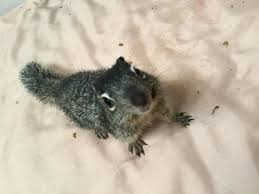Ardilla: (58, 64, 194, 141)
